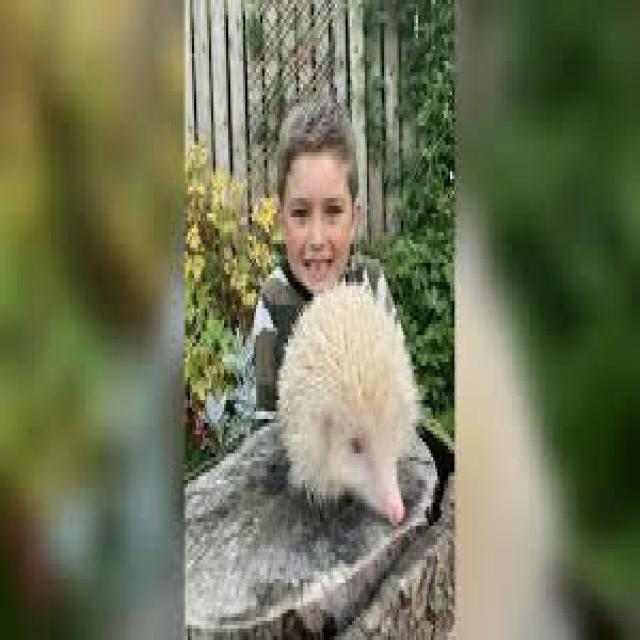Hedgehog: (274, 277, 426, 536)
